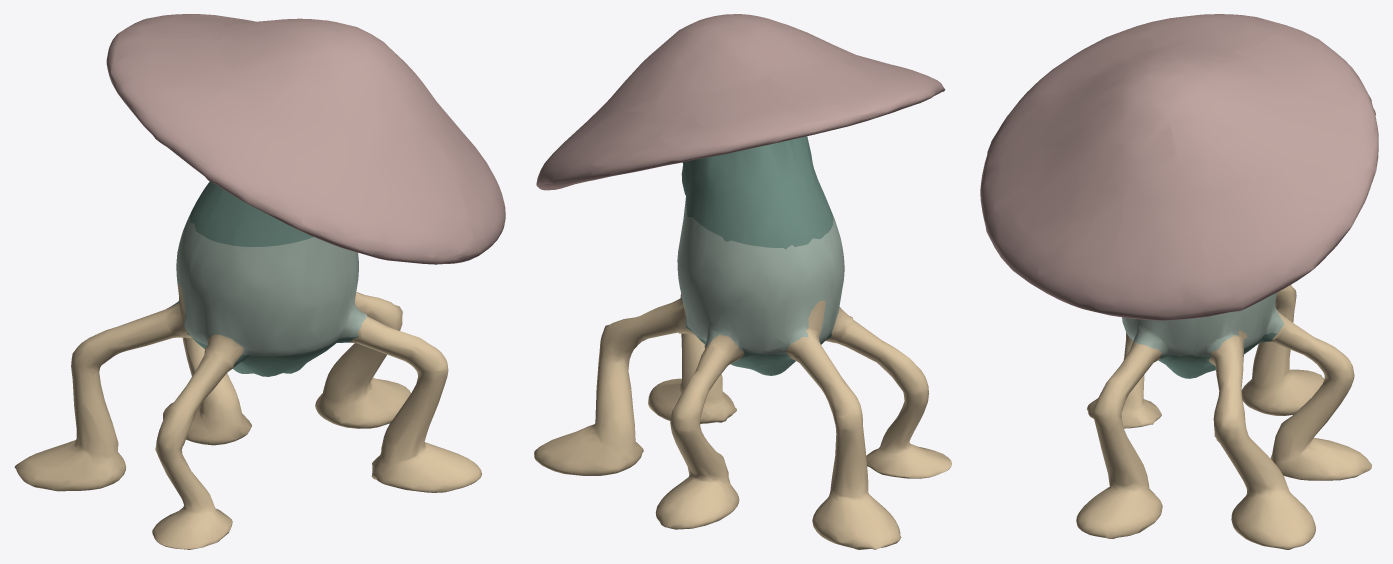
The model's file is rootknot.glb.
3 renders of one model, left to right at view 1: azimuth 30°, elevation 25°; view 2: azimuth 150°, elevation 25°; view 3: azimuth 270°, elevation 25°, orthographic. The views are drawn at different scales.
Parts seen in each view (by area): view 1: rootknot; view 2: rootknot; view 3: rootknot.
Part boxes in pixels (x1,y1,x2,y2): rootknot: (14,14,505,549); rootknot: (534,14,951,549); rootknot: (980,14,1378,549).
Bounding box in the file's own units: 3.01 × 3.2 × 2.78.
